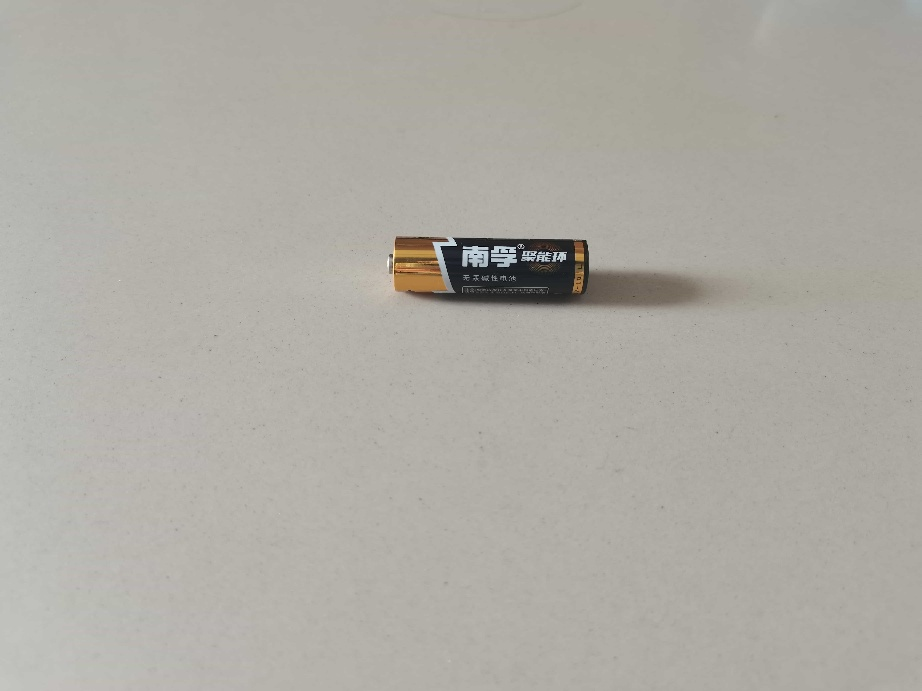battery: (382, 229, 597, 307)
